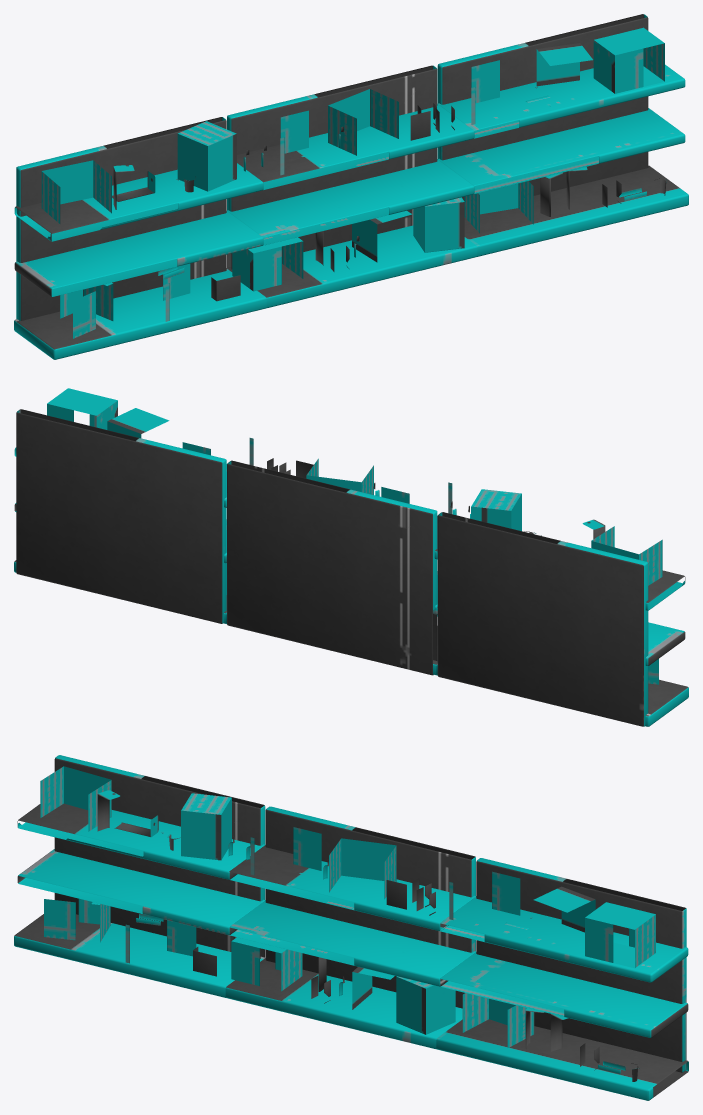
File: RepartoPastaSughi.fbx
The picture shows the model from 3 angles, top to bottom: view 1: azimuth 30°, elevation 25°; view 2: azimuth 150°, elevation 25°; view 3: azimuth 330°, elevation 25°; orthographic projection.
Parts seen in each view (by area): view 1: RepartoEmpty; view 2: RepartoEmpty; view 3: RepartoEmpty.
Part boxes in pixels (x1=…): RepartoEmpty: x1=14, y1=14, x2=688, y2=359; RepartoEmpty: x1=14, y1=388, x2=688, y2=726; RepartoEmpty: x1=14, y1=755, x2=688, y2=1100.
Size of the model in its own units: 1162 by 298 by 134.
